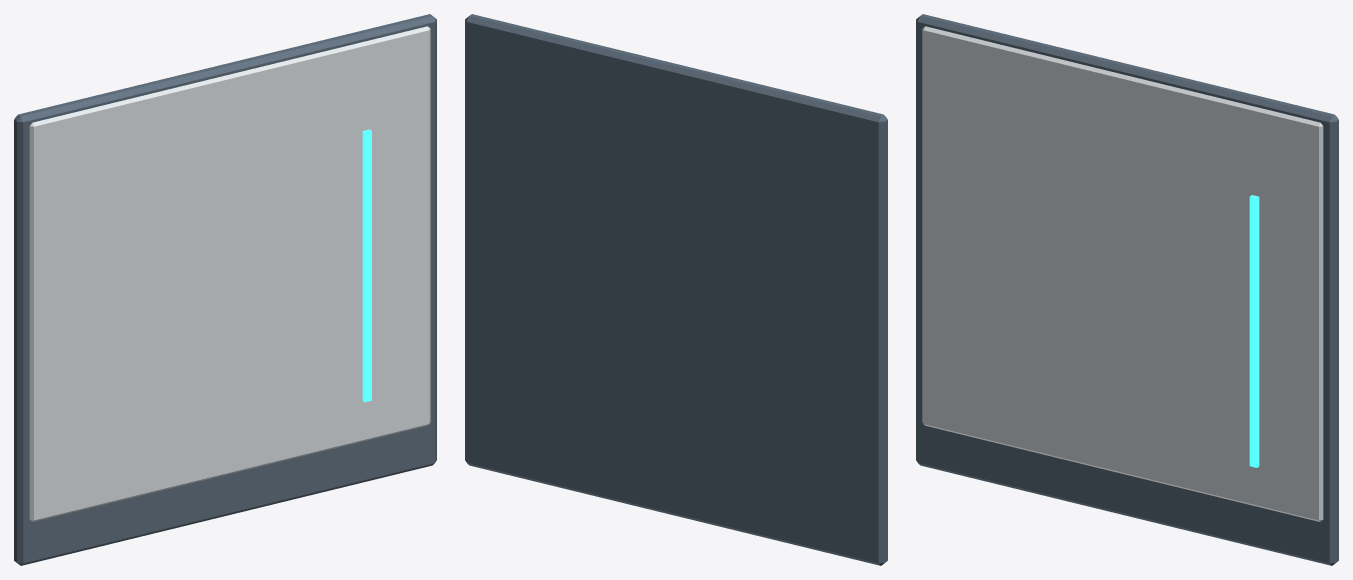
Rendered from base-GarageDoor.fbx.
3 views of the same model, side by side, from view 1: azimuth 30°, elevation 25°; view 2: azimuth 150°, elevation 25°; view 3: azimuth 330°, elevation 25° (orthographic).
Parts seen in each view (by area): view 1: base-GarageDoor_Inset.001, base-GarageDoor_Leaf.001, base-GarageDoor_Door status.001; view 2: base-GarageDoor_Leaf.001; view 3: base-GarageDoor_Inset.001, base-GarageDoor_Leaf.001, base-GarageDoor_Door status.001.
Part boxes in pixels (x1,y1,x2,y2): base-GarageDoor_Inset.001: [29, 26, 430, 521]; base-GarageDoor_Leaf.001: [14, 14, 436, 565]; base-GarageDoor_Door status.001: [362, 129, 371, 402]; base-GarageDoor_Leaf.001: [465, 14, 887, 565]; base-GarageDoor_Inset.001: [922, 26, 1323, 521]; base-GarageDoor_Leaf.001: [916, 14, 1338, 565]; base-GarageDoor_Door status.001: [1249, 195, 1259, 467].
Size of the model in its own units: 264 by 270 by 13.25.
